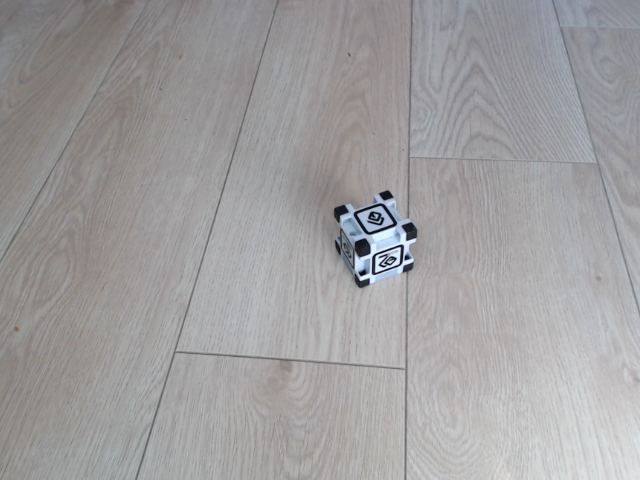block: (331, 186, 424, 294)
